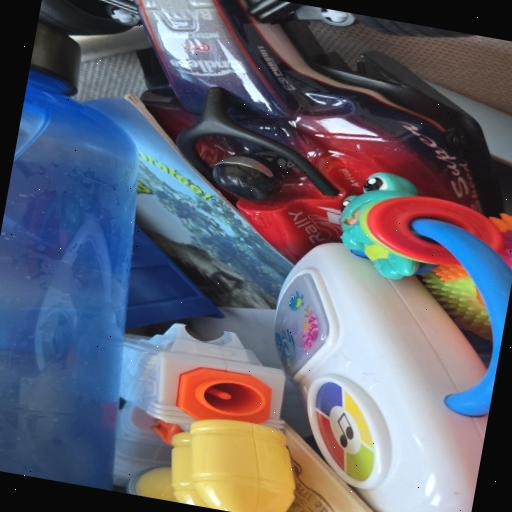bottle: (0, 11, 189, 490)
